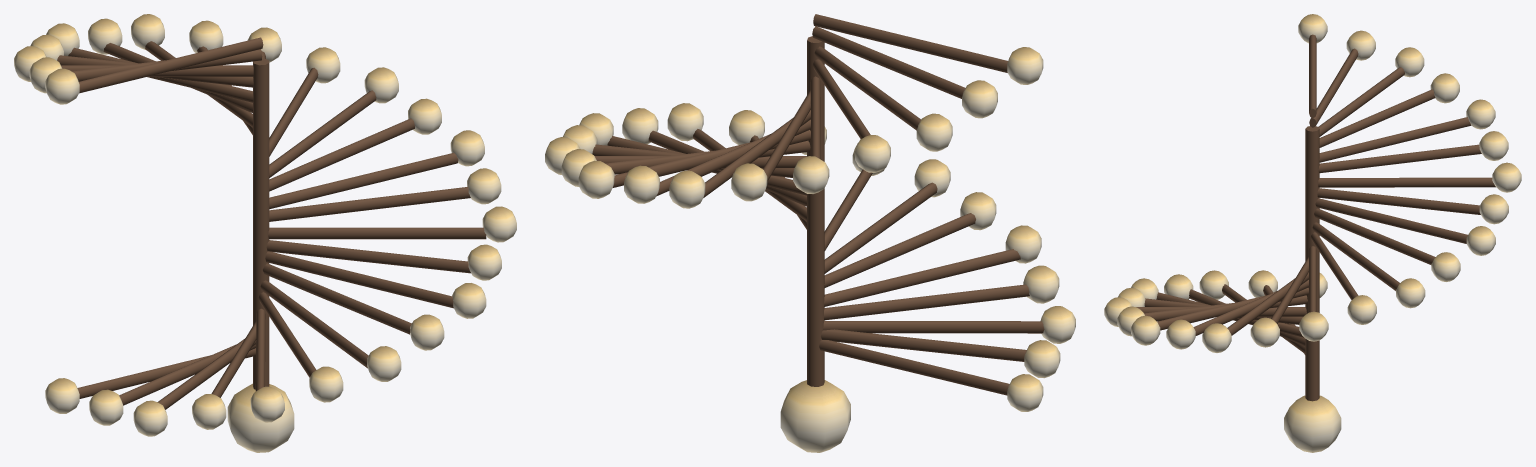
File: HangingLight_09.fbx
3 views of the same model, side by side, from view 1: azimuth 30°, elevation 25°; view 2: azimuth 150°, elevation 25°; view 3: azimuth 270°, elevation 25° (orthographic). The views are drawn at different scales.
Parts seen in each view (by area): view 1: SphericalHangingLight.004, CylidricalHangingLight.113, CylidricalHangingLight.103, SphericalHangingLight.005, CylidricalHangingLight.123, CylidricalHangingLight.122, CylidricalHangingLight.102, CylidricalHangingLight.104, CylidricalHangingLight.096, CylidricalHangingLight.124, CylidricalHangingLight.121, CylidricalHangingLight.101 (+15 smaller); view 2: SphericalHangingLight.004, SphericalHangingLight.005, CylidricalHangingLight.114, CylidricalHangingLight.107, CylidricalHangingLight.126, CylidricalHangingLight.131, CylidricalHangingLight.106, CylidricalHangingLight.096, CylidricalHangingLight.127, CylidricalHangingLight.125, CylidricalHangingLight.116, CylidricalHangingLight.105 (+15 smaller); view 3: SphericalHangingLight.004, SphericalHangingLight.005, CylidricalHangingLight.099, CylidricalHangingLight.113, CylidricalHangingLight.119, CylidricalHangingLight.118, CylidricalHangingLight.100, CylidricalHangingLight.098, CylidricalHangingLight.120, CylidricalHangingLight.117, CylidricalHangingLight.114, CylidricalHangingLight.097 (+14 smaller).
Part boxes in pixels (bbox=[...]): SphericalHangingLight.004: bbox=[14, 14, 516, 436]; CylidricalHangingLight.113: bbox=[253, 58, 269, 236]; CylidricalHangingLight.103: bbox=[268, 227, 486, 239]; SphericalHangingLight.005: bbox=[227, 383, 294, 452]; CylidricalHangingLight.123: bbox=[266, 240, 470, 273]; CylidricalHangingLight.122: bbox=[269, 187, 470, 221]; CylidricalHangingLight.102: bbox=[269, 152, 458, 209]; CylidricalHangingLight.104: bbox=[265, 251, 453, 308]; CylidricalHangingLight.096: bbox=[79, 37, 263, 93]; CylidricalHangingLight.124: bbox=[263, 263, 411, 334]; CylidricalHangingLight.121: bbox=[269, 118, 414, 191]; CylidricalHangingLight.101: bbox=[269, 90, 376, 177]; SphericalHangingLight.004: bbox=[545, 47, 1075, 411]; SphericalHangingLight.005: bbox=[780, 380, 850, 452]; CylidricalHangingLight.114: bbox=[807, 220, 824, 386]; CylidricalHangingLight.107: bbox=[822, 321, 1044, 333]; CylidricalHangingLight.126: bbox=[823, 284, 1029, 320]; CylidricalHangingLight.131: bbox=[821, 329, 1026, 361]; CylidricalHangingLight.106: bbox=[824, 249, 1020, 306]; CylidricalHangingLight.096: bbox=[813, 14, 1007, 72]; CylidricalHangingLight.127: bbox=[819, 340, 1009, 395]; CylidricalHangingLight.125: bbox=[824, 213, 975, 287]; CylidricalHangingLight.116: bbox=[812, 26, 965, 98]; CylidricalHangingLight.105: bbox=[824, 182, 937, 273]; SphericalHangingLight.004: bbox=[1104, 14, 1521, 352]; SphericalHangingLight.005: bbox=[1284, 395, 1341, 452]; CylidricalHangingLight.099: bbox=[1318, 177, 1495, 187]; CylidricalHangingLight.113: bbox=[1305, 126, 1319, 272]; CylidricalHangingLight.119: bbox=[1317, 188, 1480, 214]; CylidricalHangingLight.118: bbox=[1318, 144, 1481, 173]; CylidricalHangingLight.100: bbox=[1315, 198, 1467, 243]; CylidricalHangingLight.098: bbox=[1319, 117, 1471, 162]; CylidricalHangingLight.120: bbox=[1314, 208, 1435, 264]; CylidricalHangingLight.117: bbox=[1319, 89, 1435, 147]; CylidricalHangingLight.114: bbox=[1305, 271, 1319, 401]; CylidricalHangingLight.097: bbox=[1318, 67, 1404, 136].
Size of the model in its own units: 489 by 458 by 489.
